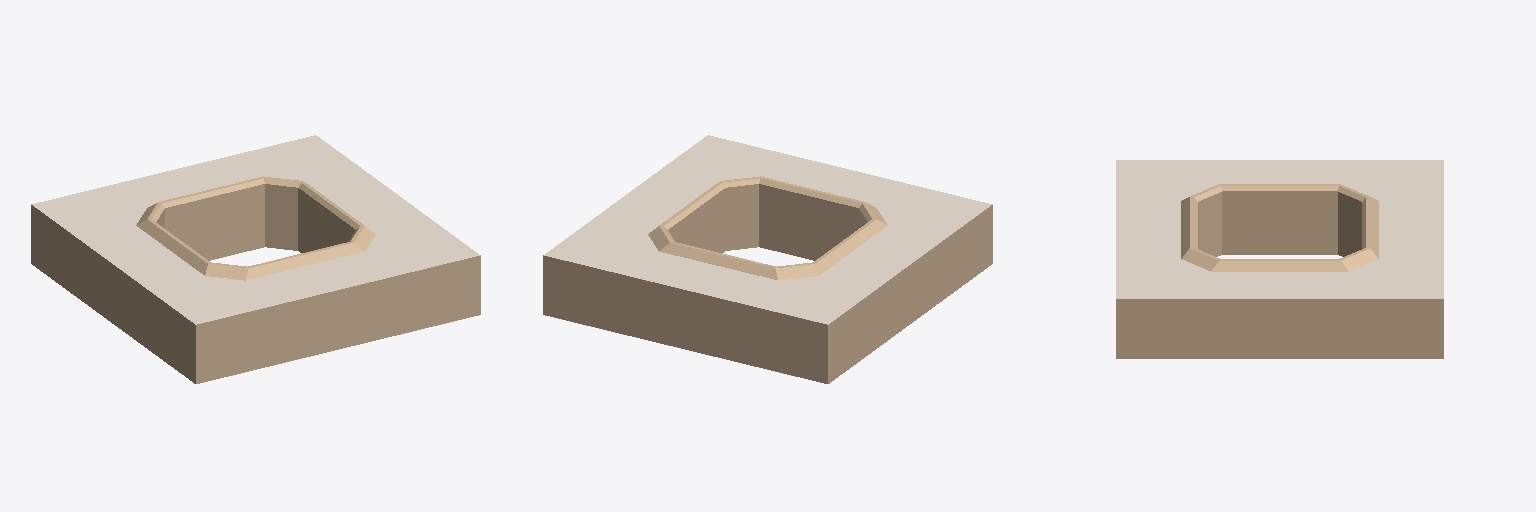
The model's file is Puzzle_Floor_Conduit_Control_Housing_Unconnected.obj.
3 renders of one model, left to right at view 1: azimuth 30°, elevation 25°; view 2: azimuth 150°, elevation 25°; view 3: azimuth 270°, elevation 25°, orthographic.
Visible parts, largest first — view 1: object1; view 2: object1; view 3: object1.
Boxes of the visible parts, <box> form: object1: <box>31,135,480,383</box>; object1: <box>543,135,992,383</box>; object1: <box>1116,160,1443,358</box>.
Size of the model in its own units: 1 by 0.225 by 1.